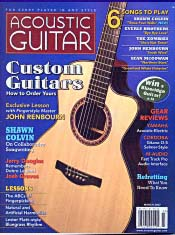guitar: (21, 2, 152, 231)
